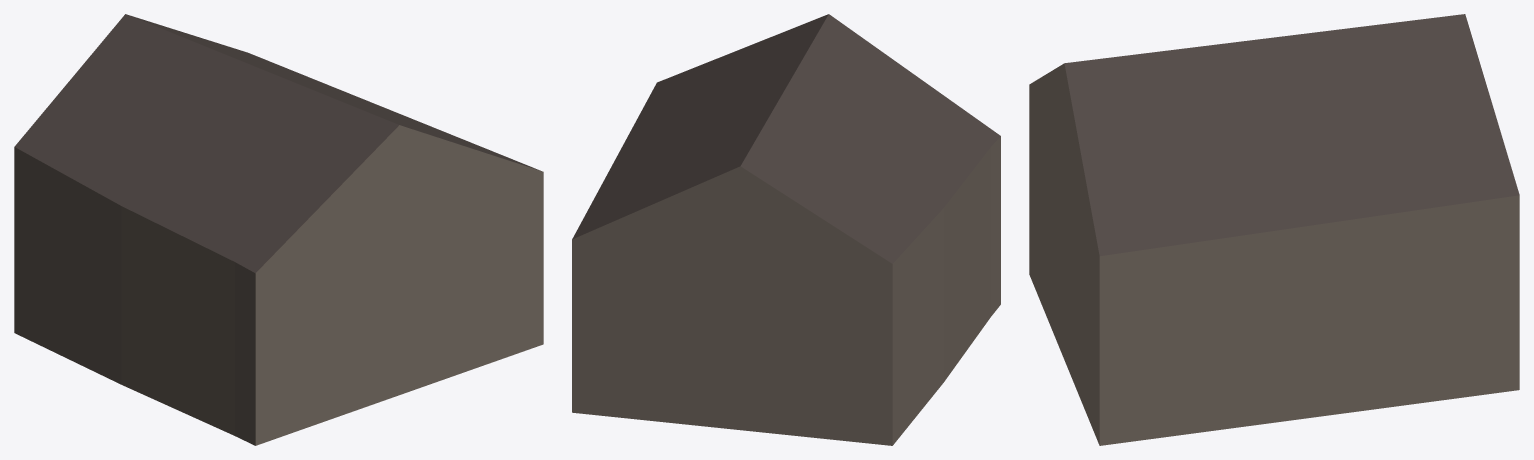
3 renders of one model, left to right at view 1: azimuth 30°, elevation 25°; view 2: azimuth 150°, elevation 25°; view 3: azimuth 270°, elevation 25°, orthographic. The views are drawn at different scales.
Visible parts, largest first — view 1: HP-w1196661472; view 2: HP-w1196661472; view 3: HP-w1196661472.
Part boxes in pixels (x1,y1,x2,y2): HP-w1196661472: (14,14,543,445); HP-w1196661472: (572,14,1000,445); HP-w1196661472: (1029,14,1519,445).
Bounding box in the file's own units: 21.02 × 14.09 × 21.09.
